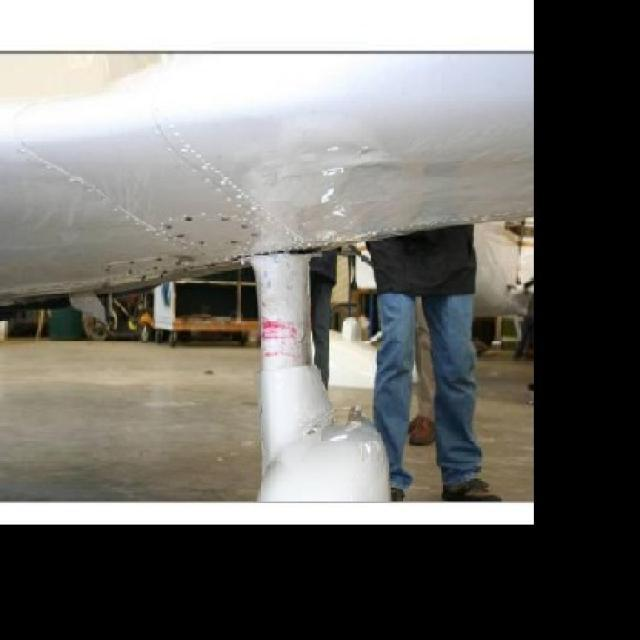dent: (309, 164, 362, 181)
